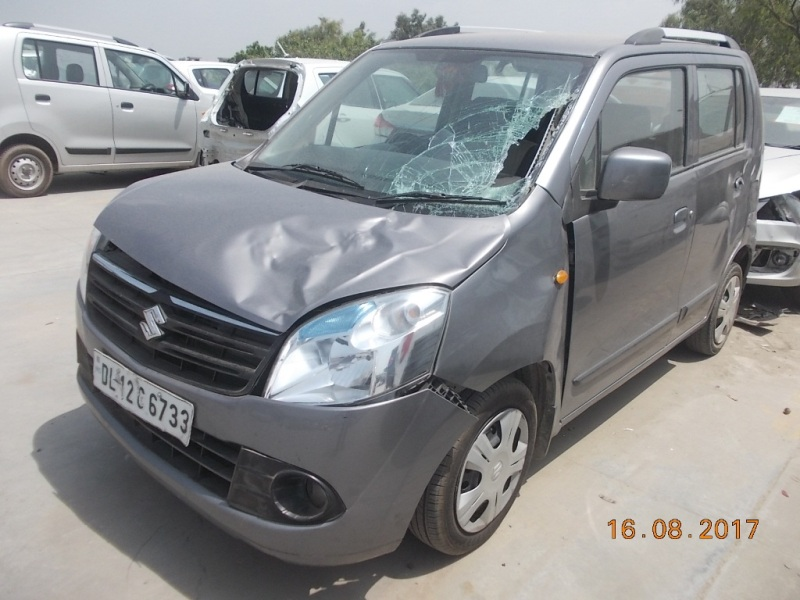Shatter: (121, 331, 318, 587), (335, 388, 465, 577), (5, 403, 117, 588)
